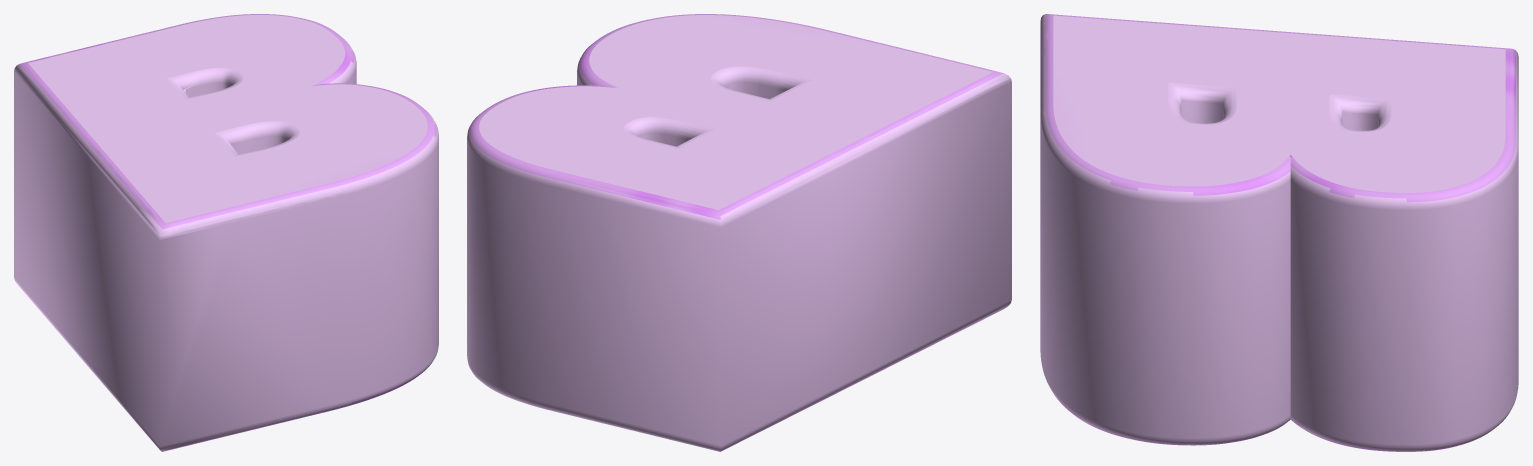
Rendered from Particle-18.dae.
The picture shows the model from 3 angles, left to right: view 1: azimuth 30°, elevation 25°; view 2: azimuth 150°, elevation 25°; view 3: azimuth 270°, elevation 25°; orthographic projection. The views are drawn at different scales.
Visible parts, largest first — view 1: Particle; view 2: Particle; view 3: Particle.
Part boxes in pixels (x1=…): Particle: x1=14, y1=14, x2=438, y2=451; Particle: x1=467, y1=14, x2=1011, y2=451; Particle: x1=1040, y1=14, x2=1518, y2=451.
Bounding box in the file's own units: 0.1039 × 0.066 × 0.1109.
1 material, 1 textured.
